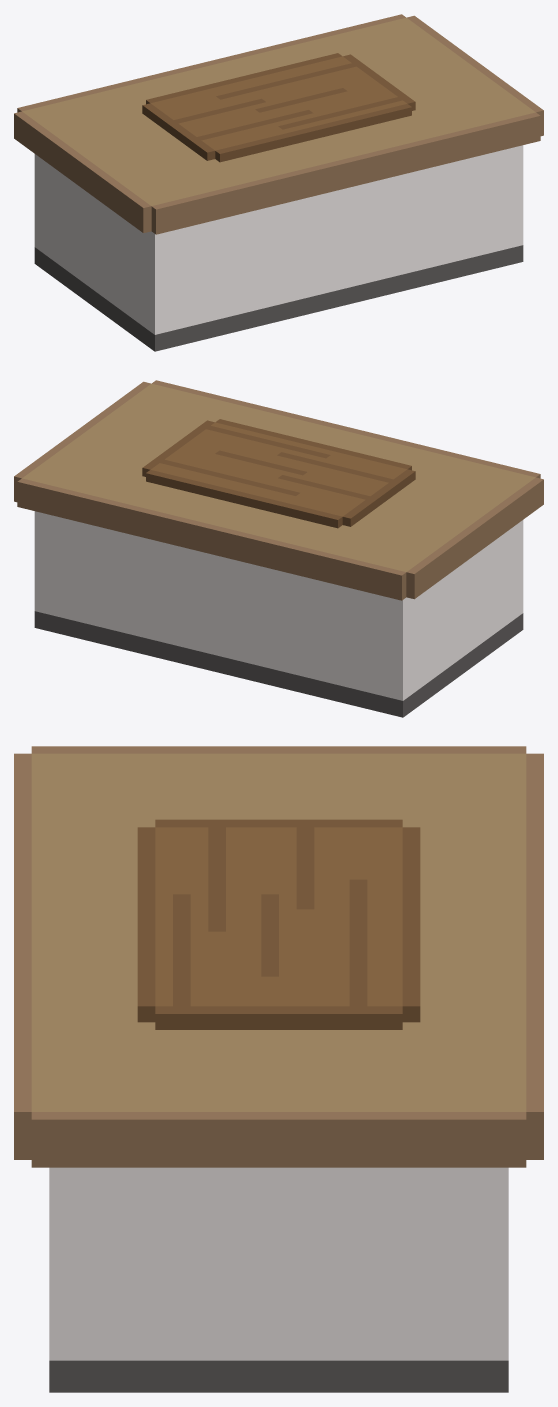
Rendered from 1P_Chopping_board.obj.
3 renders of one model, top to bottom at view 1: azimuth 30°, elevation 25°; view 2: azimuth 150°, elevation 25°; view 3: azimuth 270°, elevation 25°, orthographic. The views are drawn at different scales.
Size of the model in its own units: 5 by 1.9 by 3.
Materials: 1 (1 with a texture image).
